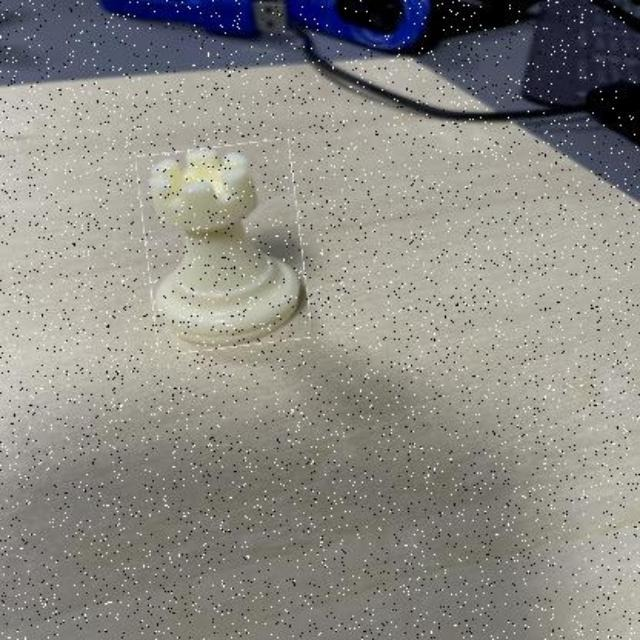white-rook: (143, 143, 307, 352)
